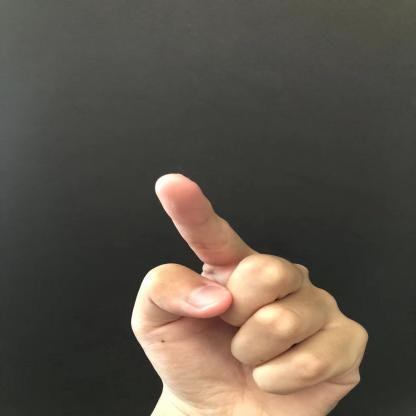finger_point: (137, 155, 268, 266)
